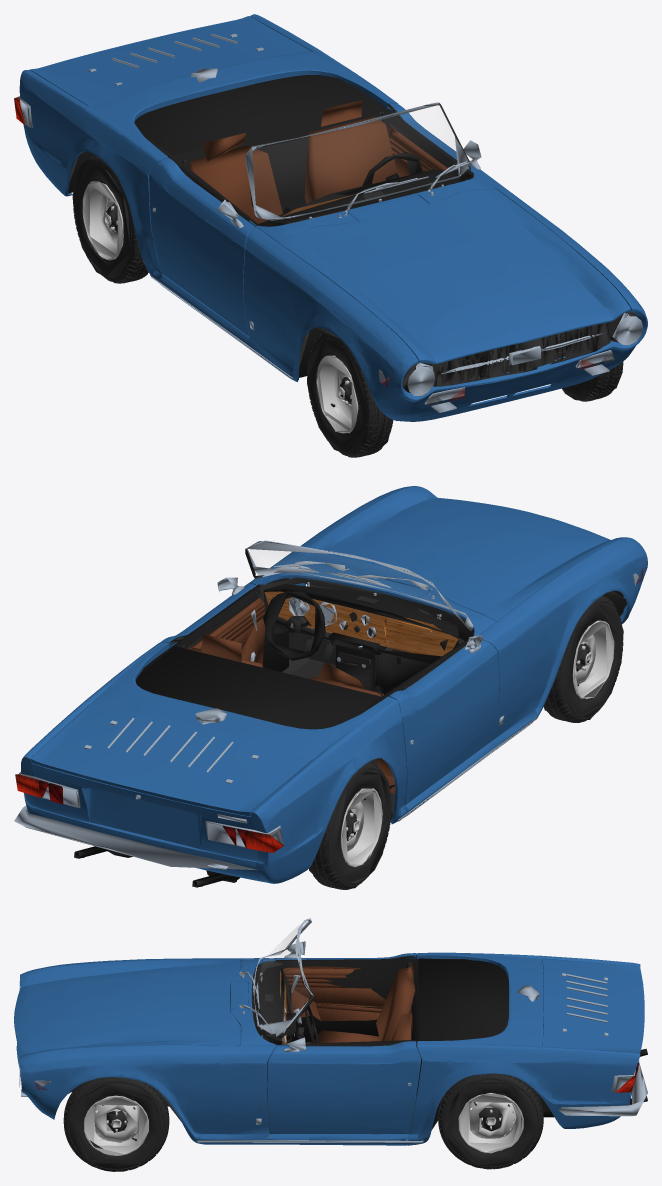
Rendered from triumph-tr6.lod1.glb.
3 renders of one model, top to bottom at view 1: azimuth 30°, elevation 25°; view 2: azimuth 150°, elevation 25°; view 3: azimuth 270°, elevation 25°, orthographic. The views are drawn at different scales.
Visible parts, largest first — view 1: Object_27, Object_30, Object_17, Object_35, Object_8, Object_40, Object_31; view 2: Object_27, Object_30, Object_8, Object_17, Object_40, Object_41, Object_35, Object_36, Object_4, Object_14, Object_31, Object_33; view 3: Object_27, Object_30, Object_17, Object_35, Object_40, Object_8, Object_36, Object_31, Object_14.
Boxes of the visible parts, x1,y1,x2,y2 form: Object_27: [19, 14, 647, 421]; Object_30: [134, 75, 473, 225]; Object_17: [72, 103, 623, 457]; Object_35: [190, 100, 452, 223]; Object_8: [18, 34, 642, 412]; Object_40: [82, 181, 358, 433]; Object_31: [68, 151, 622, 379]; Object_27: [21, 486, 647, 883]; Object_30: [135, 578, 473, 729]; Object_8: [14, 540, 638, 870]; Object_17: [170, 545, 623, 889]; Object_40: [340, 620, 614, 867]; Object_41: [264, 591, 458, 656]; Object_35: [189, 598, 395, 793]; Object_36: [181, 577, 474, 788]; Object_4: [15, 774, 283, 852]; Object_14: [186, 592, 473, 669]; Object_31: [310, 579, 626, 819]; Object_33: [74, 846, 239, 887]; Object_27: [14, 952, 644, 1145]; Object_30: [240, 958, 508, 1072]; Object_17: [63, 929, 543, 1171]; Object_35: [283, 962, 415, 1043]; Object_40: [83, 1093, 523, 1155]; Object_8: [19, 918, 647, 1142]; Object_36: [252, 961, 421, 1124]; Object_31: [68, 1073, 550, 1132]; Object_14: [230, 986, 363, 1059].
Size of what is drawn, in the model's own units: 1.53 by 1.19 by 3.94.
Materials: 19 (8 with a texture image).
